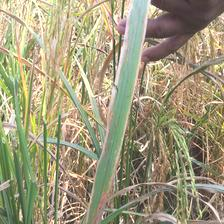2 BacterialBlight: (97, 3, 136, 185)
